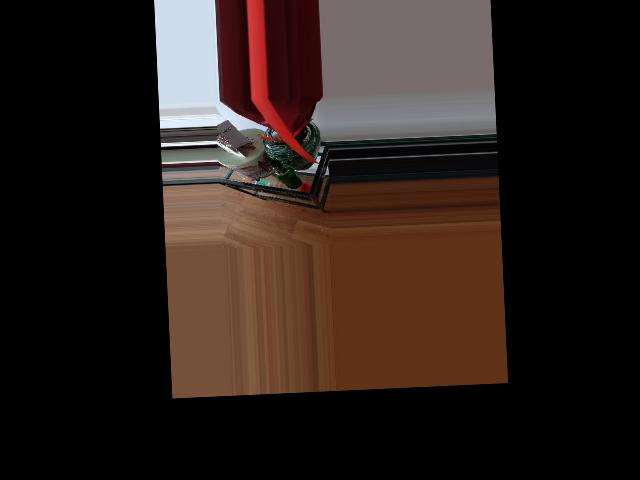beer: (269, 157, 302, 190)
